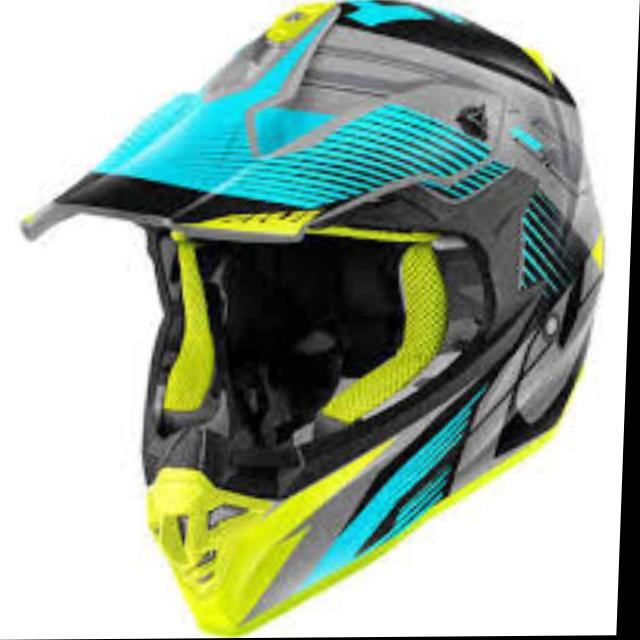motorcycle-helmets: (46, 0, 602, 632)
